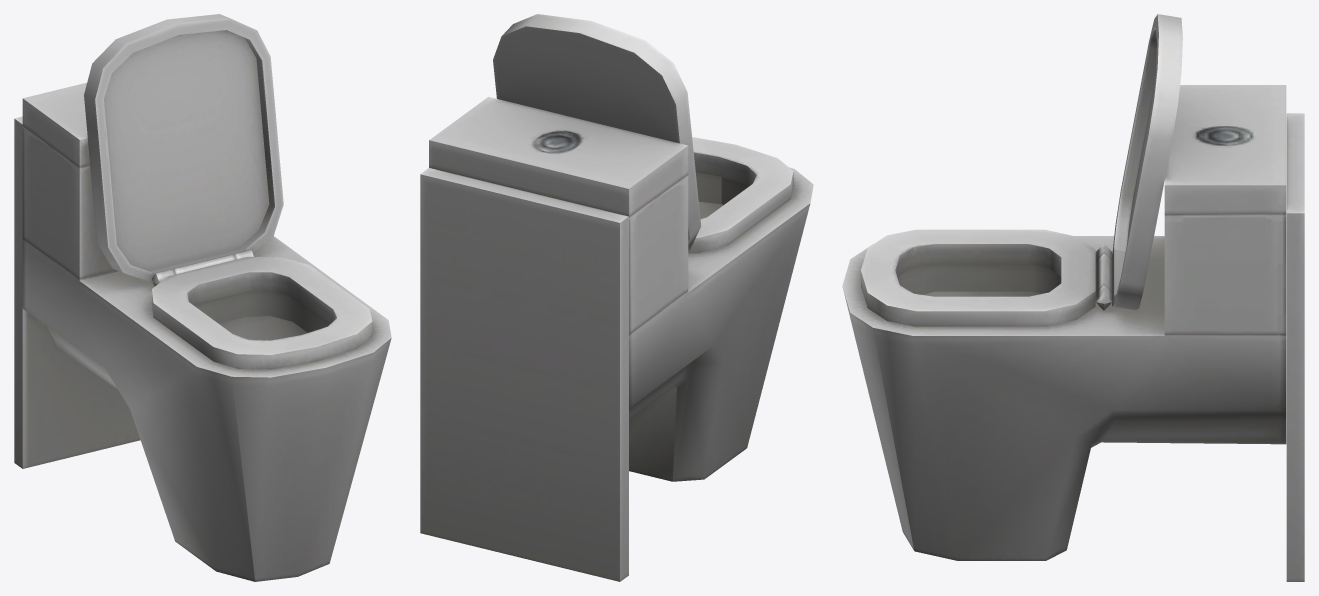
The model's file is inodoro.fbx.
3 renders of one model, left to right at view 1: azimuth 30°, elevation 25°; view 2: azimuth 150°, elevation 25°; view 3: azimuth 270°, elevation 25°, orthographic. The views are drawn at different scales.
Parts seen in each view (by area): view 1: s4studio_mesh_1; view 2: s4studio_mesh_1; view 3: s4studio_mesh_1.
Part boxes in pixels (<box>): s4studio_mesh_1: <box>14,14,391,581</box>; s4studio_mesh_1: <box>420,14,813,581</box>; s4studio_mesh_1: <box>842,14,1304,581</box>.
Bounding box in the file's own units: 38.5 × 89.25 × 75.13.
1 material, 1 textured.
